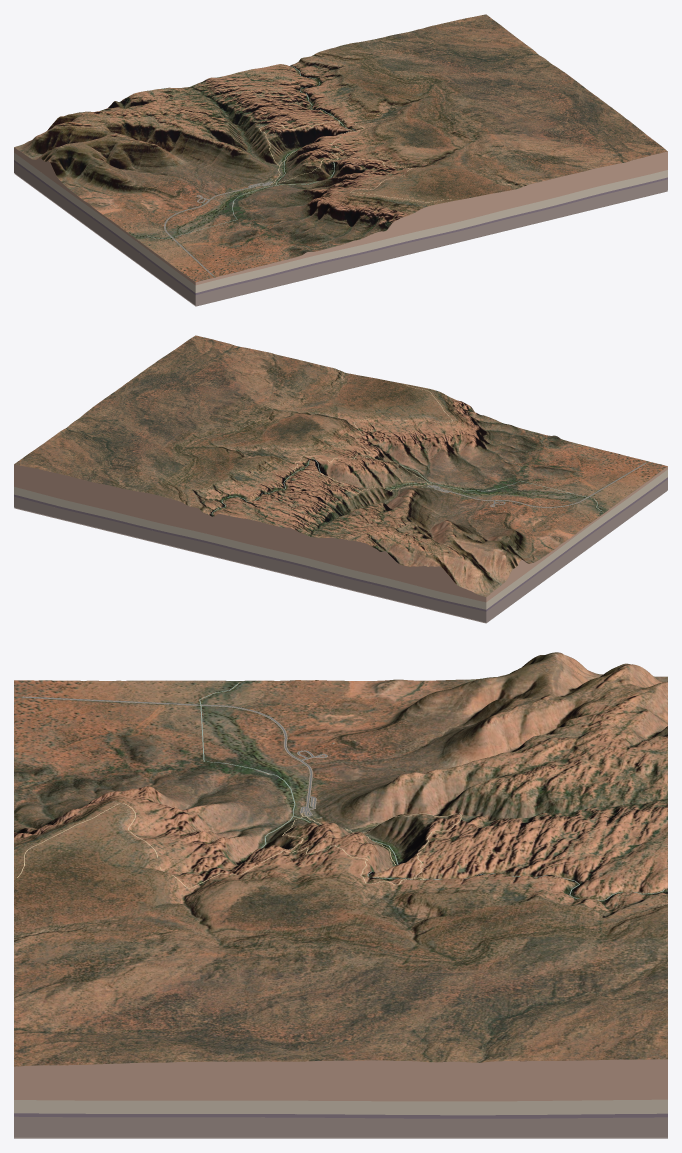
File: kings-canyon.glb
The picture shows the model from 3 angles, top to bottom: view 1: azimuth 30°, elevation 25°; view 2: azimuth 150°, elevation 25°; view 3: azimuth 270°, elevation 25°; orthographic projection. The views are drawn at different scales.
Parts seen in each view (by area): view 1: Kings Canyon terrain • 1.5× display, Schematic sandstone and mudstone cut face, Base; view 2: Kings Canyon terrain • 1.5× display, Schematic sandstone and mudstone cut face, Base; view 3: Kings Canyon terrain • 1.5× display, Schematic sandstone and mudstone cut face, Base.
Boxes of the visible parts, left/top/right/bottom form: Kings Canyon terrain • 1.5× display: left=14, top=14, right=667, bottom=282; Schematic sandstone and mudstone cut face: left=14, top=147, right=667, bottom=305; Base: left=14, top=173, right=667, bottom=306; Kings Canyon terrain • 1.5× display: left=14, top=335, right=667, bottom=596; Schematic sandstone and mudstone cut face: left=14, top=464, right=667, bottom=622; Base: left=14, top=490, right=667, bottom=623; Kings Canyon terrain • 1.5× display: left=14, top=652, right=667, bottom=1066; Schematic sandstone and mudstone cut face: left=14, top=1059, right=667, bottom=1136; Base: left=14, top=1099, right=667, bottom=1138.
Bounding box in the file's own units: 60 × 6.23 × 40.
Materials: 10 (1 with a texture image).
